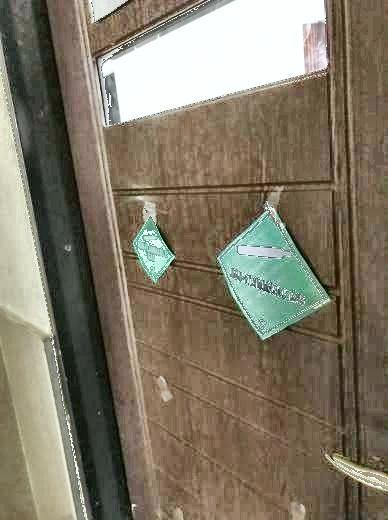non-flammable-gas: (217, 205, 332, 339), (131, 215, 175, 284)
